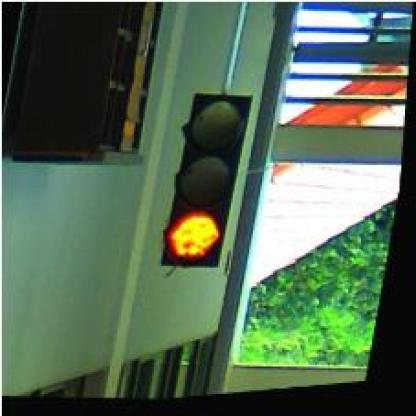red: (162, 94, 256, 276)
